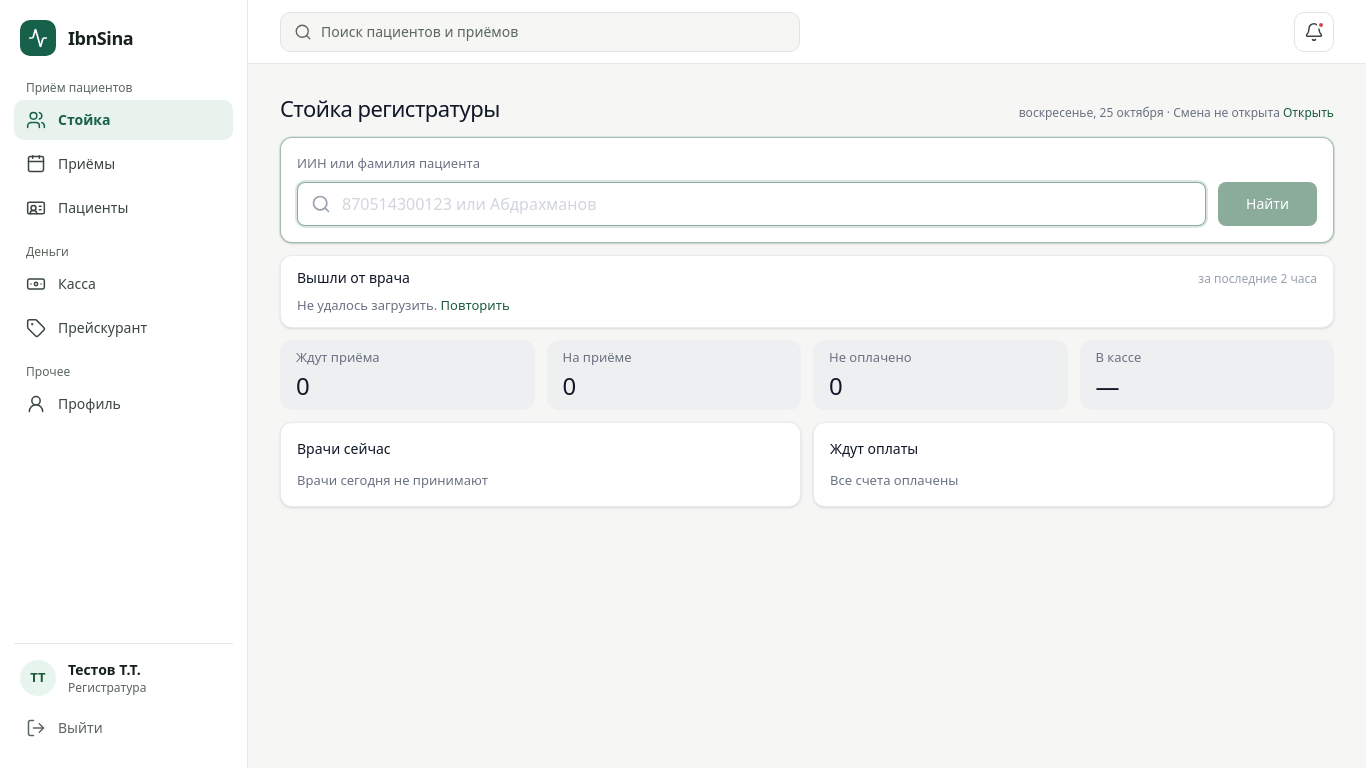
Test: запись прямо со стойки › врач в выбранный день не принимает — предупреждение, запись не блокируется на клиенте
Type "870514300123" into the field labelled "ИИН или фамилия пациента". click: x=752, y=204
box: 297,182 -> 1206,226
Then press Enter
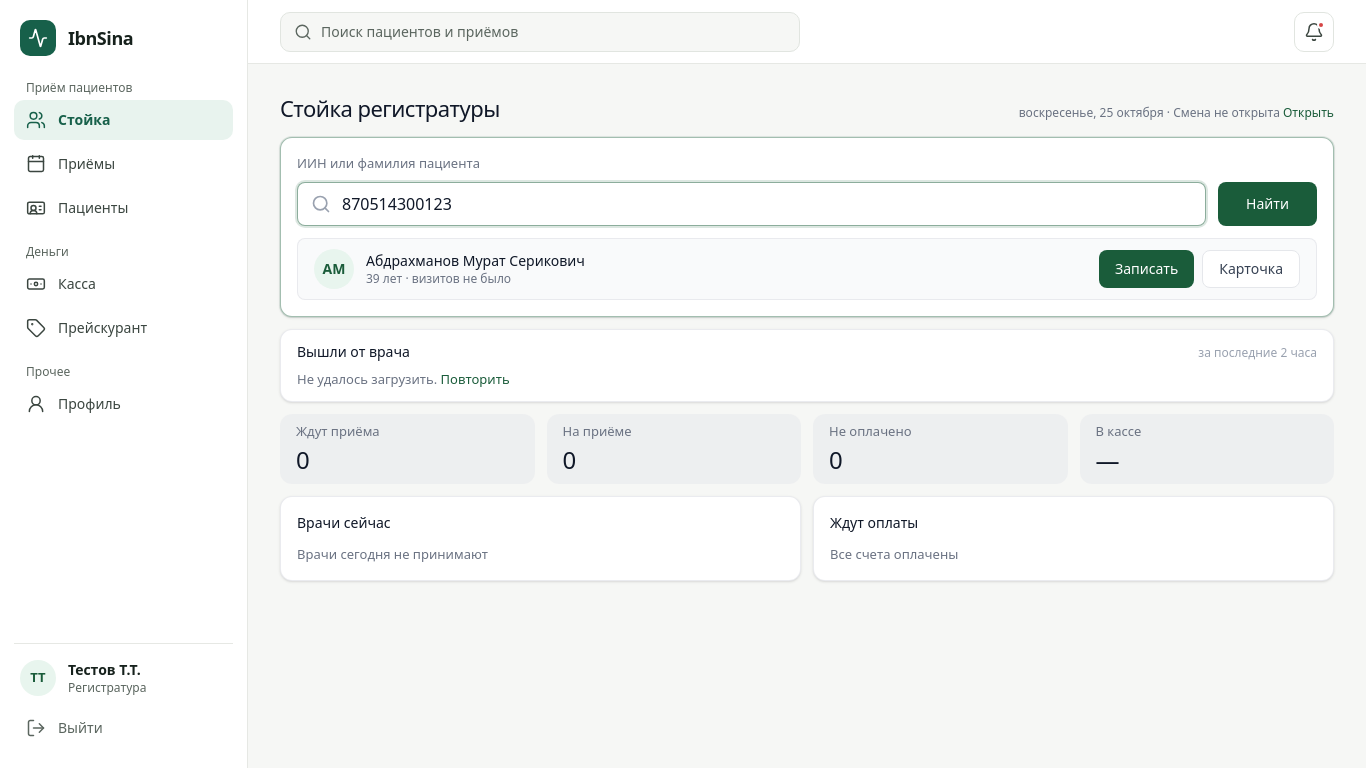
Check: the text "Абдрахманов Мурат Серикович" is shown, box 366,250 -> 585,270
Click the button "Записать". click: x=1147, y=268
box: 1099,250 -> 1194,288
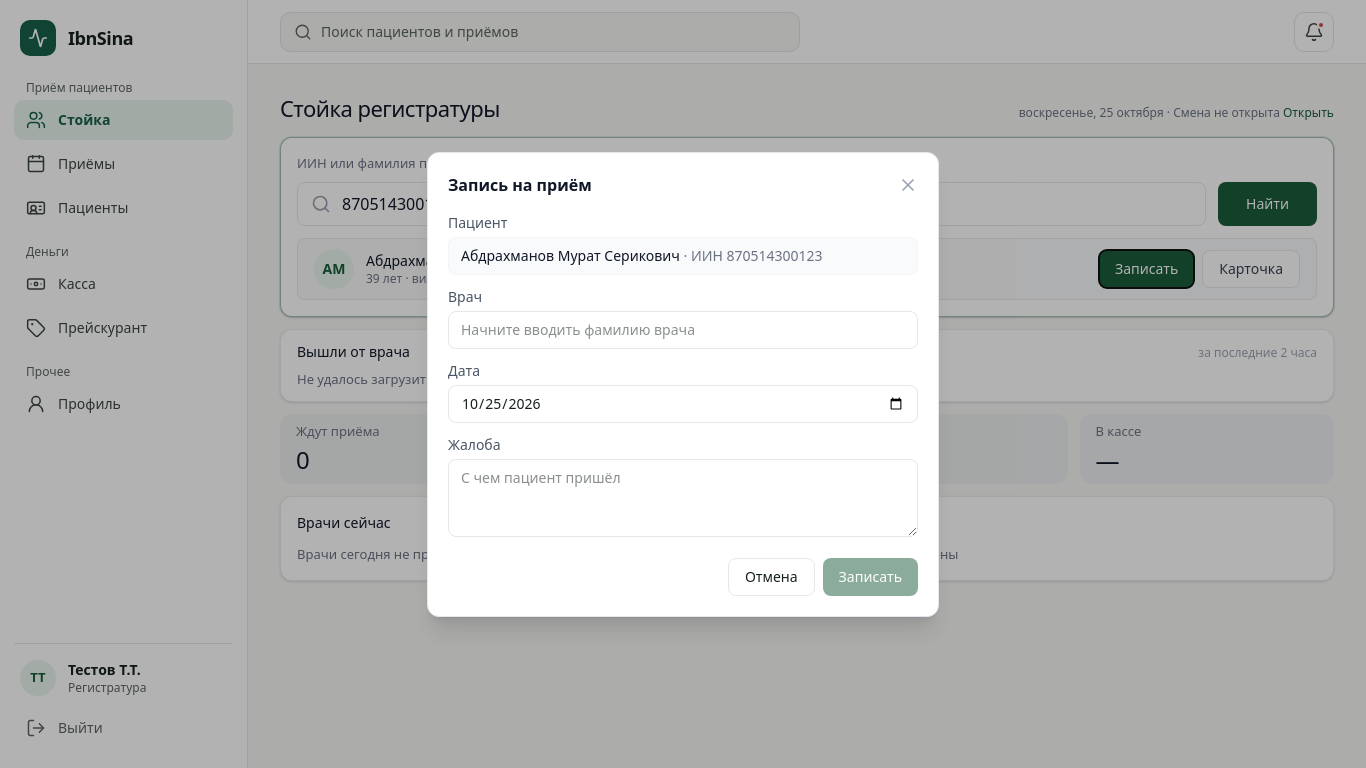
Type "Сери" into the field with placeholder "Начните вводить фамилию врача". click: x=683, y=330
box: 448,310 -> 918,348
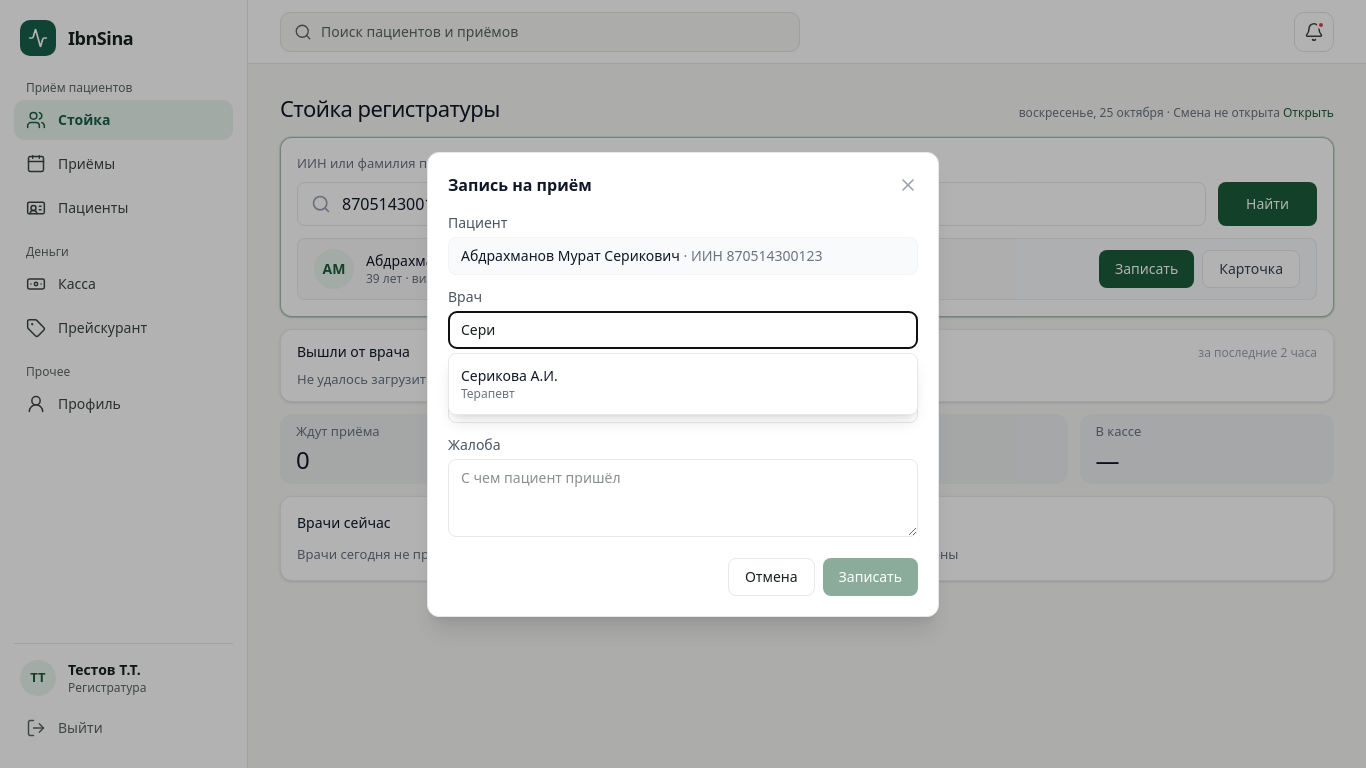
Click the text "Серикова А.И.". click: x=509, y=376
box: 461,366 -> 558,386
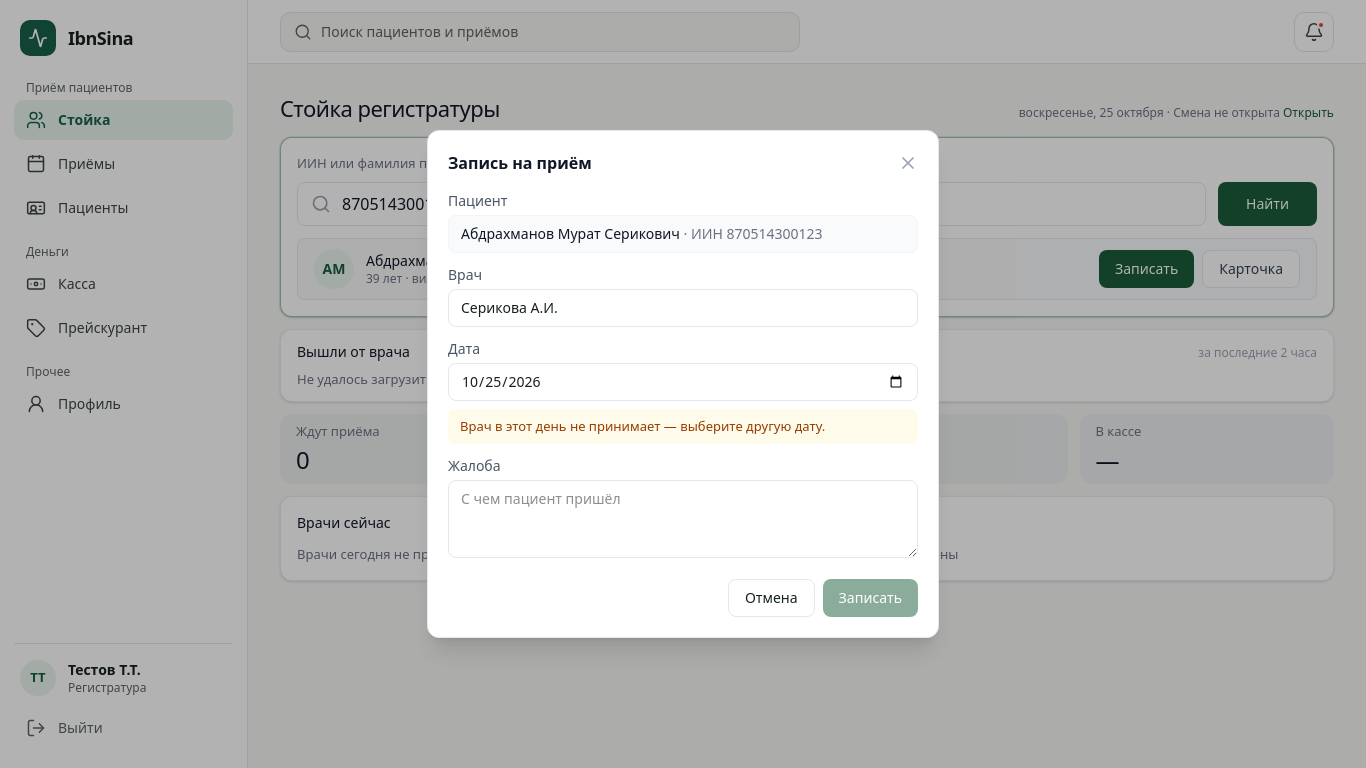
Check: the field showing "Серикова А.И." is shown, box 448,289 -> 918,327
Check: the message shows "Врач в этот день не принимает", box 460,417 -> 825,435
